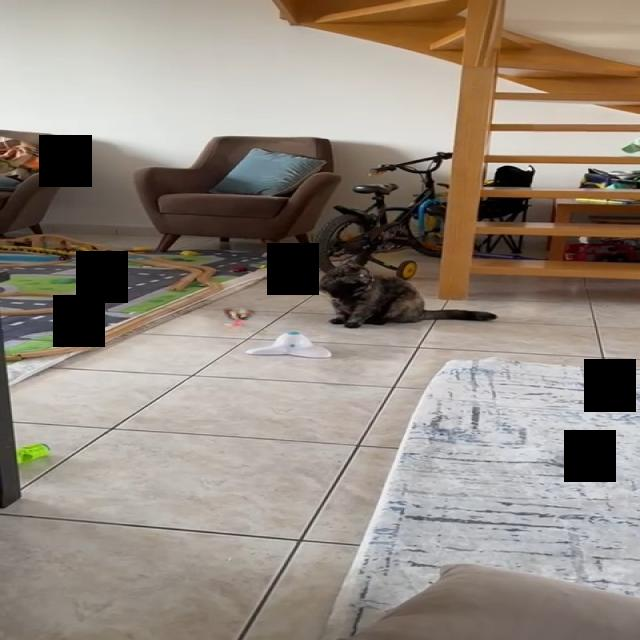authorized: (315, 262, 497, 328)
